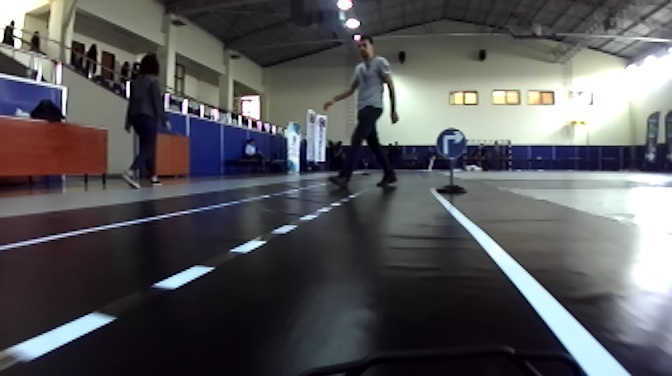saga_donus: (436, 128, 467, 159)
